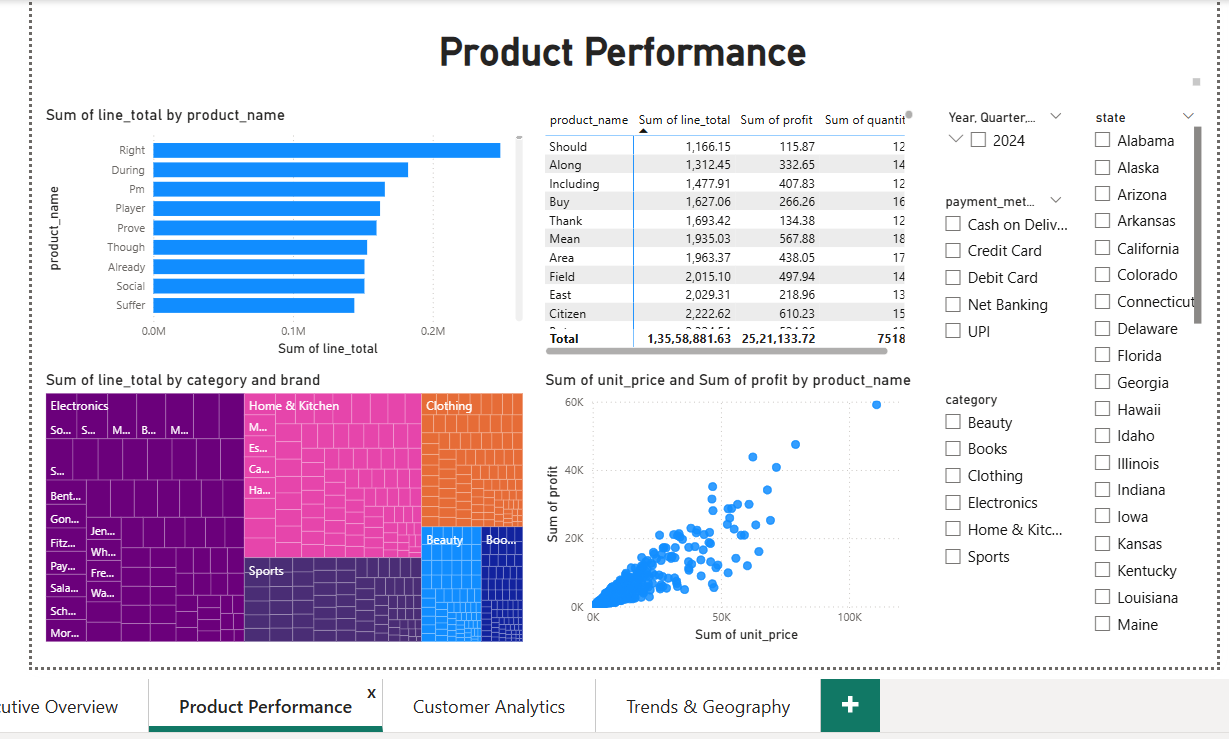

The dashboard page shown, as its layout file describes it:
{"tool":"powerbi","page":{"name":"Product Performance","canvas":[1280,720],"ordinal":1},"visuals":[{"type":"textbox","title":"Product Performance","box":[9.7,21,1256.5,76.1],"z":0},{"type":"clusteredBarChart","fields":{"Category":["warehouse dim_products.product_name"],"Y":["Sum(warehouse fact_sales.line_total)"]},"box":[9.5,112.9,524.9,275.2],"z":1000},{"type":"treemap","fields":{"Group":["warehouse dim_products.category"],"Details":["warehouse dim_products.brand"],"Values":["Sum(warehouse fact_sales.line_total)"]},"box":[9.5,399.2,524.9,297.4],"z":2000},{"type":"scatterChart","fields":{"Category":["warehouse dim_products.product_name"],"X":["Sum(warehouse fact_sales.unit_price)"],"Y":["Sum(warehouse fact_sales.profit)"]},"box":[548.8,399.2,407.2,297.4],"z":3000},{"type":"pivotTable","fields":{"Rows":["warehouse dim_products.product_name"],"Values":["Sum(warehouse fact_sales.line_total)","Sum(warehouse fact_sales.profit)","Sum(warehouse fact_sales.quantity)"]},"box":[548.8,112.9,407.2,275.2],"z":4000},{"type":"slicer","fields":{"Values":["warehouse dim_customers.state"]},"box":[1135.7,112.9,132,583.8],"z":5000},{"type":"slicer","fields":{"Values":["warehouse dim_date.full_date.Variation.Date Hierarchy.Year","warehouse dim_date.full_date.Variation.Date Hierarchy.Quarter","warehouse dim_date.full_date.Variation.Date Hierarchy.Month","warehouse dim_date.full_date.Variation.Date Hierarchy.Day"]},"box":[976.6,112.9,147.9,73.2],"z":6000},{"type":"slicer","fields":{"Values":["warehouse dim_payment_method.payment_method_name"]},"box":[973.5,203.6,151.1,202],"z":7000},{"type":"slicer","fields":{"Values":["warehouse dim_products.category"]},"box":[973.5,418.3,151.1,291.1],"z":8000}]}

Visuals, with their boxes on the page's 1280x720 design canvas (x1, y1, x2, y2). These are canvas units, not pixel positions in the 1229x739 screenshot, which may show the page scaled, cropped or inside an application window:
"Product Performance" textbox: <box>10,21,1266,97</box>
clusteredBarChart - warehouse dim_products.product_name x Sum(warehouse fact_sales.line_total): <box>10,113,534,388</box>
treemap - warehouse dim_products.category x warehouse dim_products.brand: <box>10,399,534,697</box>
scatterChart - warehouse dim_products.product_name x Sum(warehouse fact_sales.unit_price): <box>549,399,956,697</box>
pivotTable - warehouse dim_products.product_name x Sum(warehouse fact_sales.line_total): <box>549,113,956,388</box>
slicer - warehouse dim_customers.state: <box>1136,113,1268,697</box>
slicer - warehouse dim_date.full_date.Variation.Date Hierarchy.Year x warehouse dim_date.full_date.Variation.Date Hierarchy.Quarter: <box>977,113,1124,186</box>
slicer - warehouse dim_payment_method.payment_method_name: <box>974,204,1125,406</box>
slicer - warehouse dim_products.category: <box>974,418,1125,709</box>
